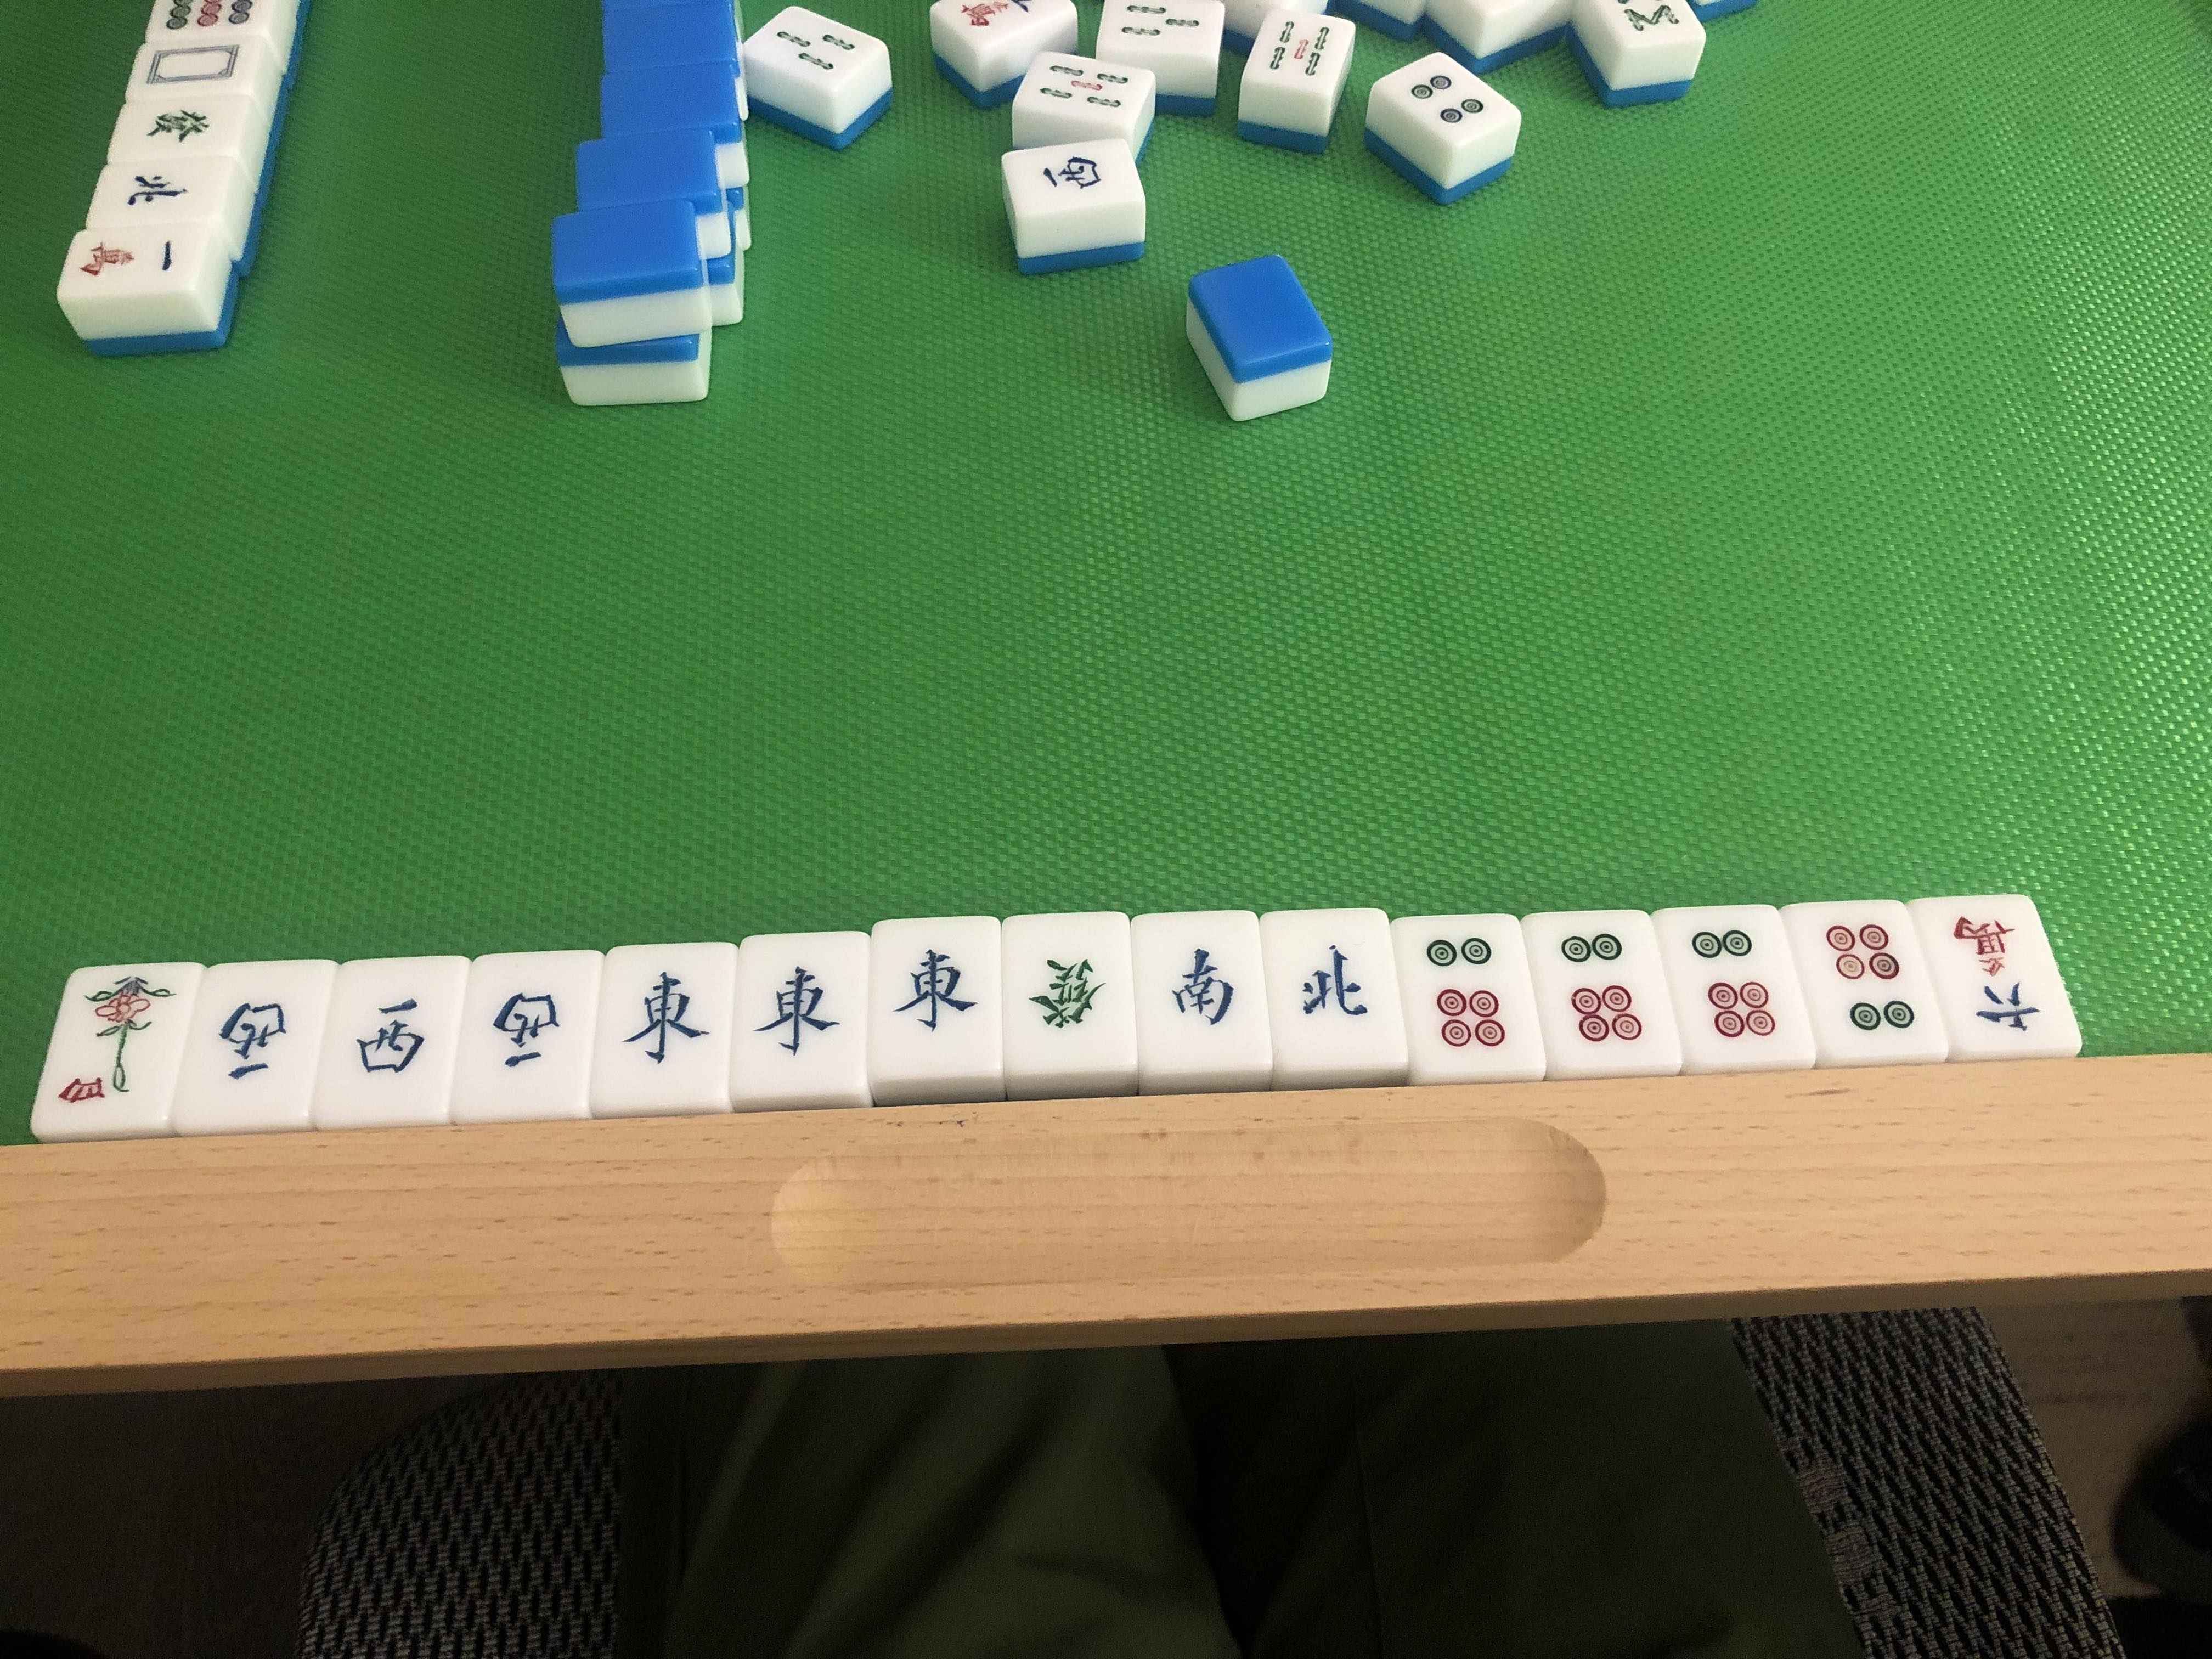character-six: (1947, 906, 2043, 1039)
circle-six: (1420, 922, 1514, 1065), (1684, 918, 1780, 1053), (1559, 924, 1644, 1053), (1815, 924, 1914, 1033)
flower-red_four: (51, 965, 178, 1115)
honor-east_wind: (873, 917, 1000, 1082), (737, 934, 864, 1100), (610, 946, 728, 1096)
honor-green_dragon: (1012, 915, 1122, 1070)
honor-north_wind: (1284, 911, 1383, 1063)
honor-south_wind: (1150, 910, 1252, 1065)
honor-west_wind: (481, 976, 575, 1096), (340, 995, 434, 1087), (212, 990, 296, 1093)
